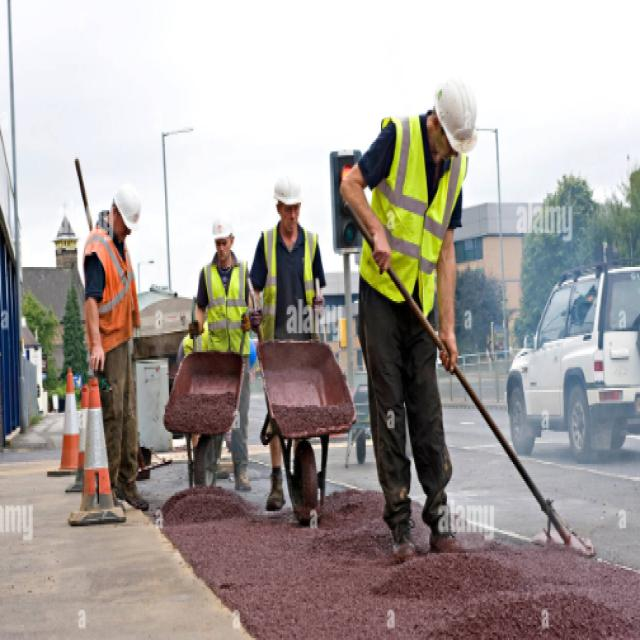hard_hat: (435, 78, 481, 157), (270, 170, 307, 238), (109, 181, 142, 244), (209, 211, 236, 261)
shoes: (385, 514, 469, 561), (103, 470, 155, 517), (264, 463, 314, 511), (198, 458, 255, 489)
vest: (357, 111, 478, 321), (81, 223, 143, 353), (257, 221, 319, 346), (200, 255, 251, 358)
